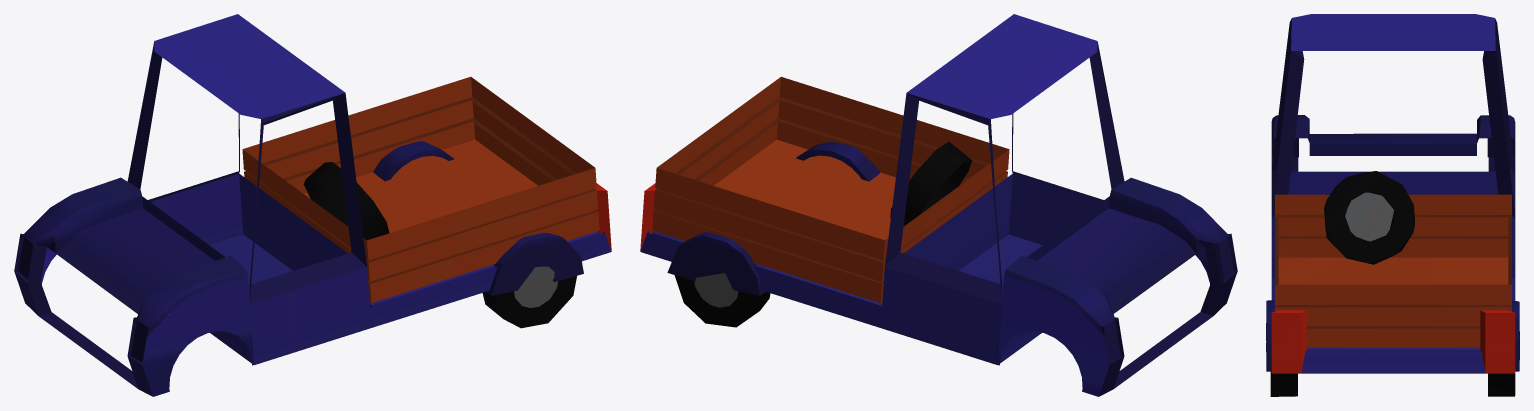
The model's file is Carro1.glb.
The picture shows the model from 3 angles, left to right: view 1: azimuth 30°, elevation 25°; view 2: azimuth 150°, elevation 25°; view 3: azimuth 270°, elevation 25°; orthographic projection. The views are drawn at different scales.
Visible parts, largest first — view 1: Carro1; view 2: Carro1; view 3: Carro1.
Part boxes in pixels (<box>): Carro1: <box>14,14,611,396</box>; Carro1: <box>640,14,1237,396</box>; Carro1: <box>1266,14,1519,396</box>.
Size of the model in its own units: 4.24 by 2.33 by 2.08.
Materials: 1 (1 with a texture image).
